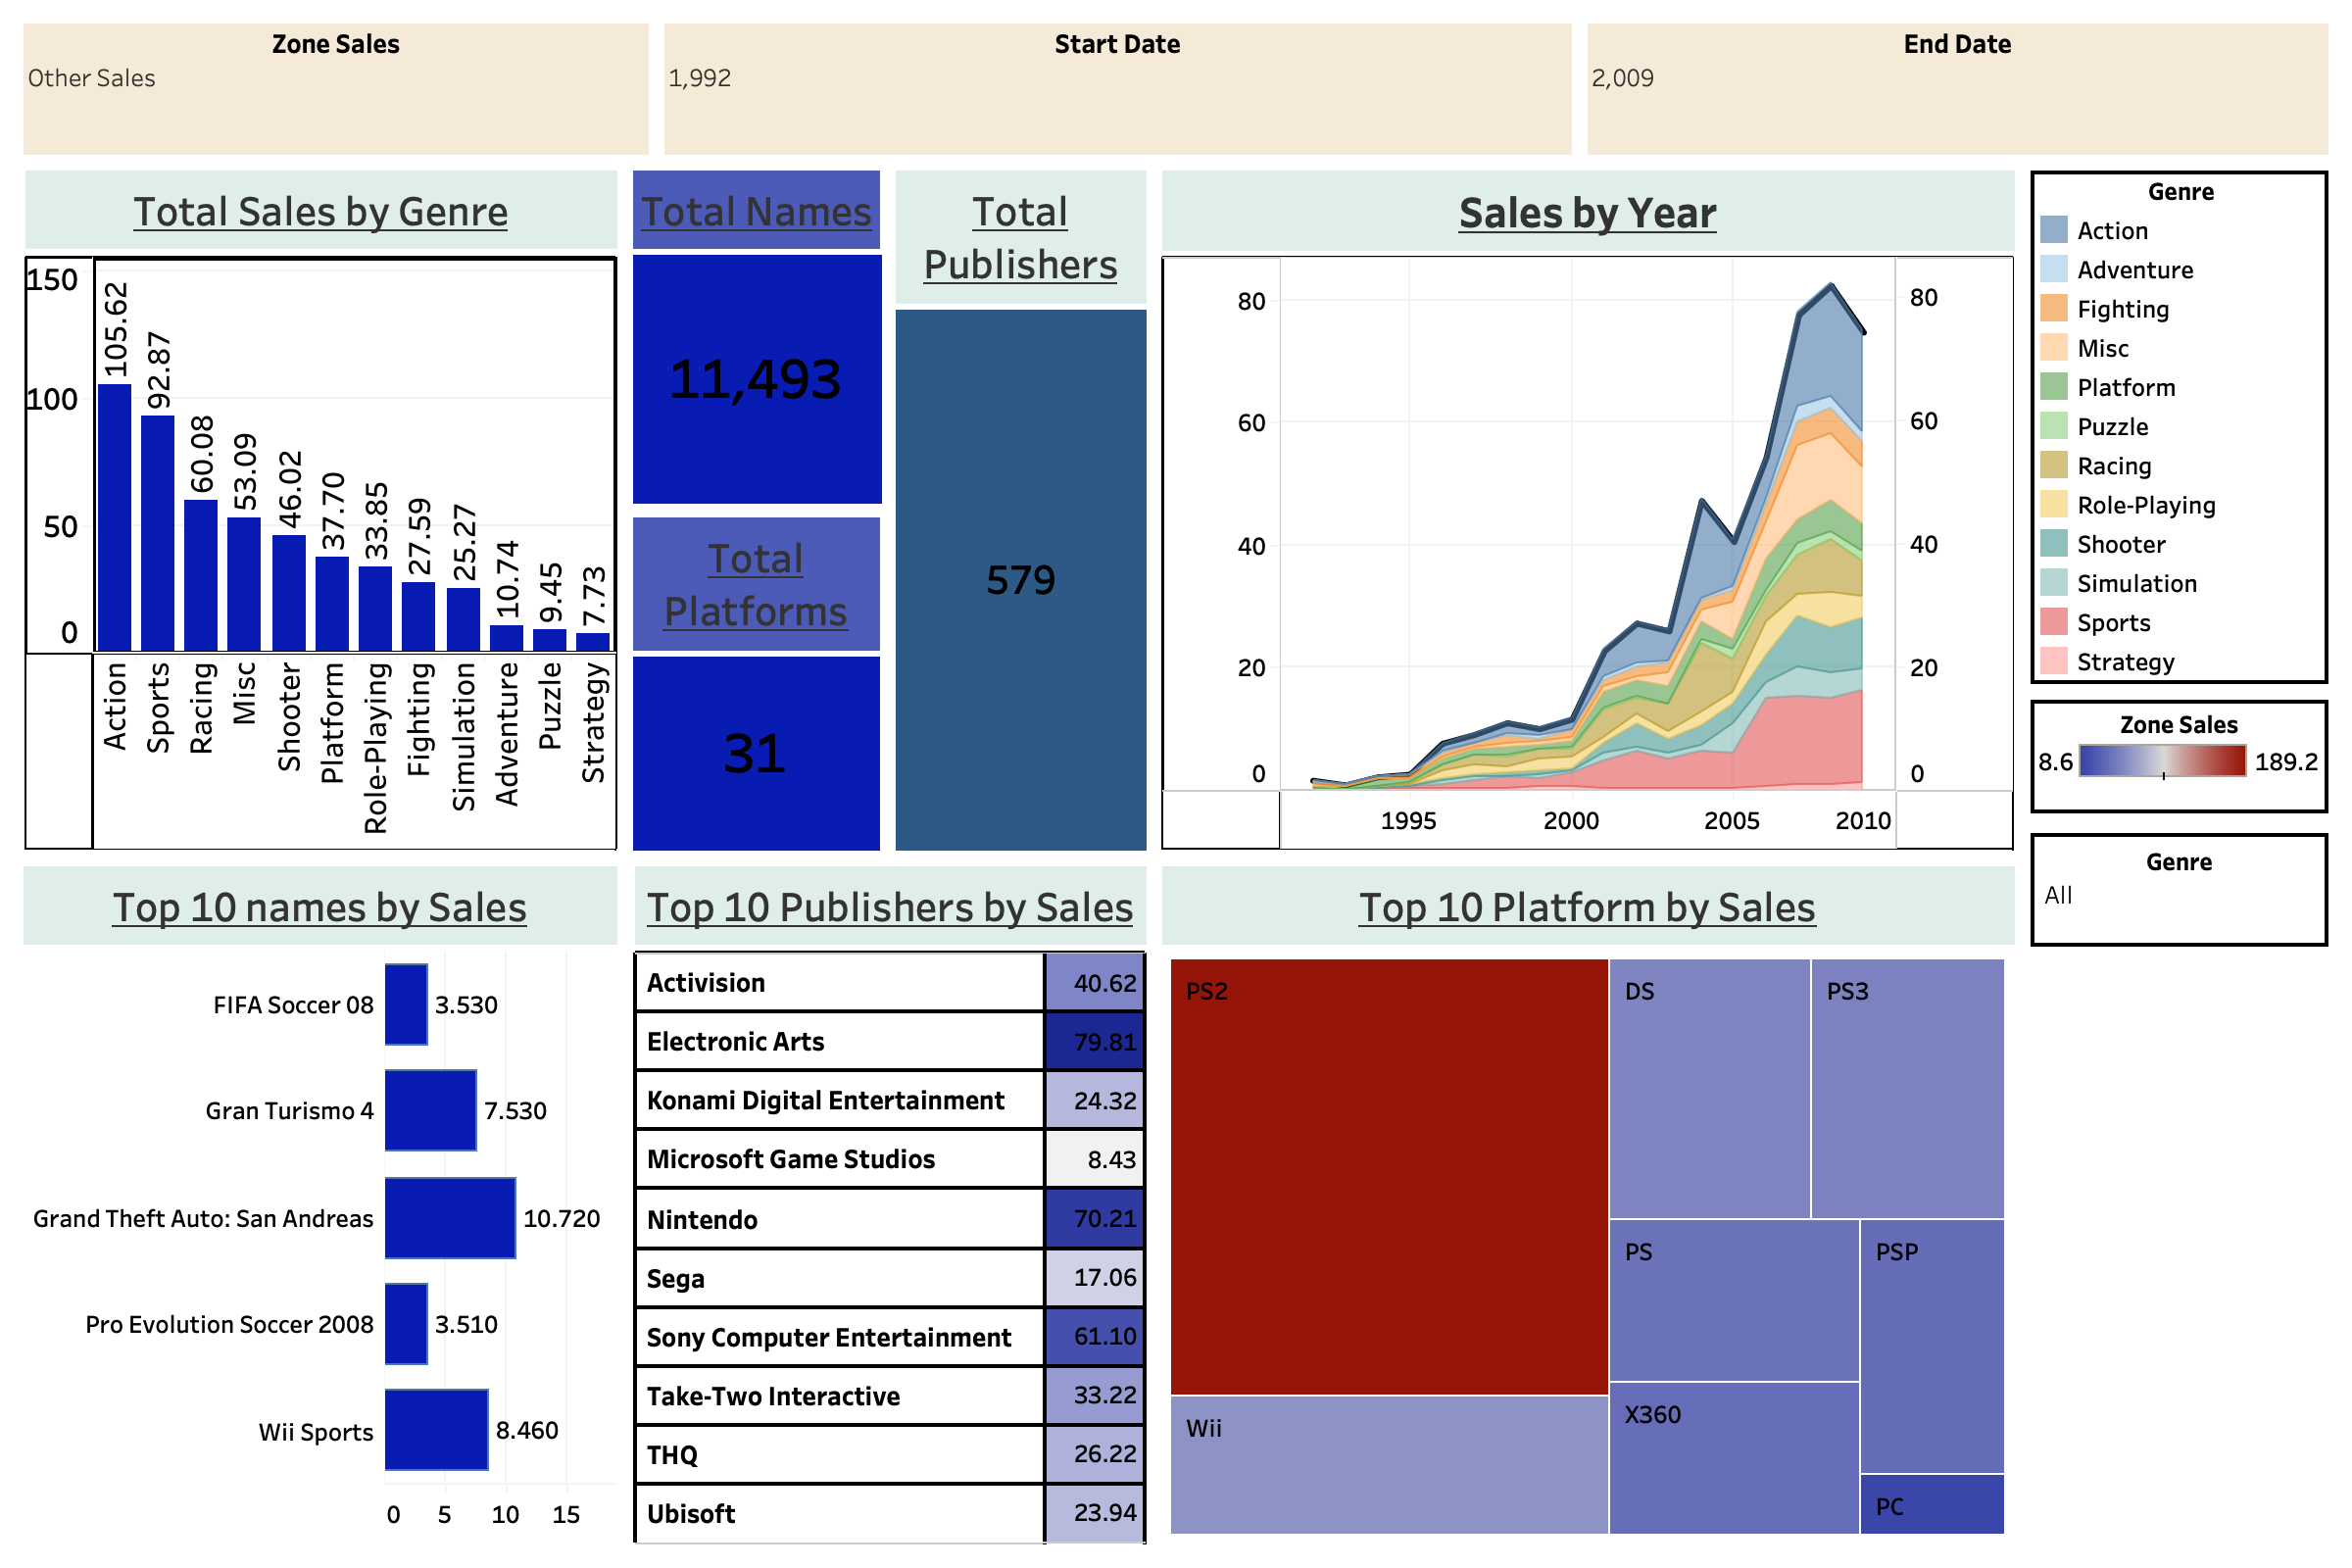

This screenshot's page, from the dashboard's own definition file:
{"tool":"tableau","page":{"name":"Sales Dashboard","canvas":[1200,800],"ordinal":0},"visuals":[{"type":"parameter","param":"[Parameters].[Parameter 1]","box":[8,8,327,75]},{"type":"parameter","param":"[Parameters].[Parameter 2]","box":[335,8,471,75]},{"type":"parameter","param":"[Parameters].[Parameter 3]","box":[806,8,386,75]},{"type":"worksheet","title":"Total Sales by Genre","mark":"Bar","rows":["Calculation_90072035348852736"],"cols":["Genre"],"box":[8,83,311,354.5]},{"type":"worksheet","title":"Total Names","mark":"Automatic","box":[319,83,134,177.3]},{"type":"worksheet","title":"Total Publishers","mark":"Automatic","box":[453,83,136,354.5]},{"type":"worksheet","title":"Sales by Year and Genre","mark":"Automatic","rows":["Calculation_90072035348852736","Calculation_90072035348852736"],"cols":["Year"],"box":[589,83,443,354.5]},{"type":"legend","title":"Sales by Year and Genre","param":"[federated.06l7z4m00img6b1fli9vo0sk52kg].[none:Genre:nk]","box":[1032,83,160,270]},{"type":"worksheet","title":"Total Platforms","mark":"Automatic","box":[319,260.3,134,177.2]},{"type":"legend","title":"Top 10 Platforms by Sales","param":"[federated.06l7z4m00img6b1fli9vo0sk52kg].[sum:Calculation_90072035348852736:qk]","box":[1032,353,160,69]},{"type":"filter","title":"Sales by Year and Genre","param":"[federated.06l7z4m00img6b1fli9vo0sk52kg].[none:Genre:nk]","box":[1036,425,152,58]},{"type":"worksheet","title":"Top 10 Names by Sales","mark":"Automatic","rows":["Name"],"cols":["Calculation_90072035348852736"],"box":[8,437.5,311,354.5]},{"type":"worksheet","title":"Top 10 Publishers by Sales ","mark":"Square","rows":["Publisher"],"box":[319,437.5,270,354.5]},{"type":"worksheet","title":"Top 10 Platforms by Sales","mark":"Automatic","box":[589,437.5,443,354.5]}]}

Visuals, with their boxes in screenshot pixels (x1, y1, x2, y2), scaled from the page's 1200x800 canvas onto the 2352x1568 screenshot:
parameter: bbox=[16, 16, 657, 163]
parameter: bbox=[657, 16, 1580, 163]
parameter: bbox=[1580, 16, 2336, 163]
"Total Sales by Genre" worksheet (Bar marks): bbox=[16, 163, 625, 857]
"Total Names" worksheet: bbox=[625, 163, 888, 511]
"Total Publishers" worksheet: bbox=[888, 163, 1154, 857]
"Sales by Year and Genre" worksheet: bbox=[1154, 163, 2023, 857]
"Sales by Year and Genre" legend: bbox=[2023, 163, 2336, 692]
"Total Platforms" worksheet: bbox=[625, 511, 888, 857]
"Top 10 Platforms by Sales" legend: bbox=[2023, 692, 2336, 827]
"Sales by Year and Genre" filter: bbox=[2031, 833, 2328, 947]
"Top 10 Names by Sales" worksheet: bbox=[16, 857, 625, 1552]
"Top 10 Publishers by Sales " worksheet (Square marks): bbox=[625, 857, 1154, 1552]
"Top 10 Platforms by Sales" worksheet: bbox=[1154, 857, 2023, 1552]
